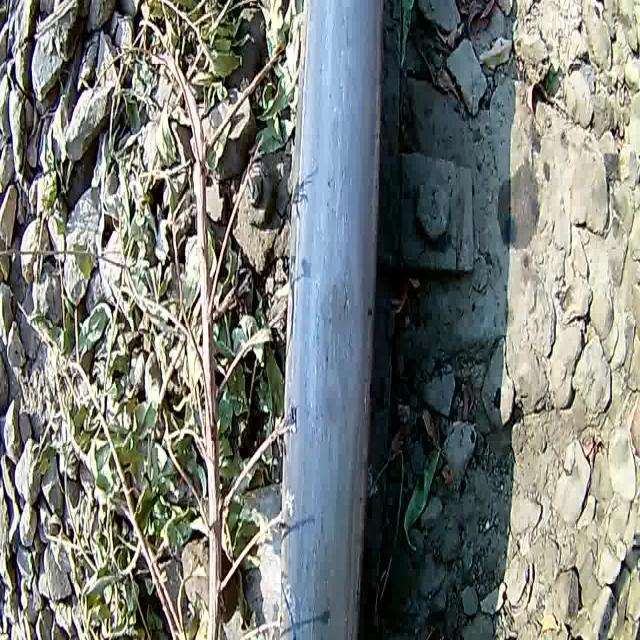Squats: (252, 0, 413, 640)
